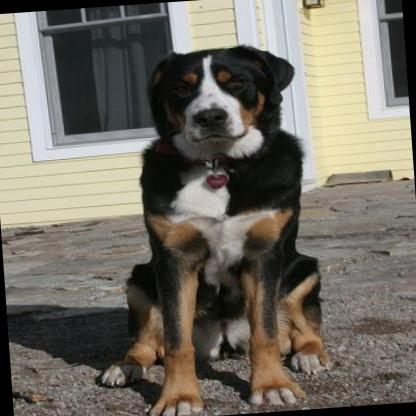Greater_Swiss_Mountain_dog: (71, 36, 337, 416)
